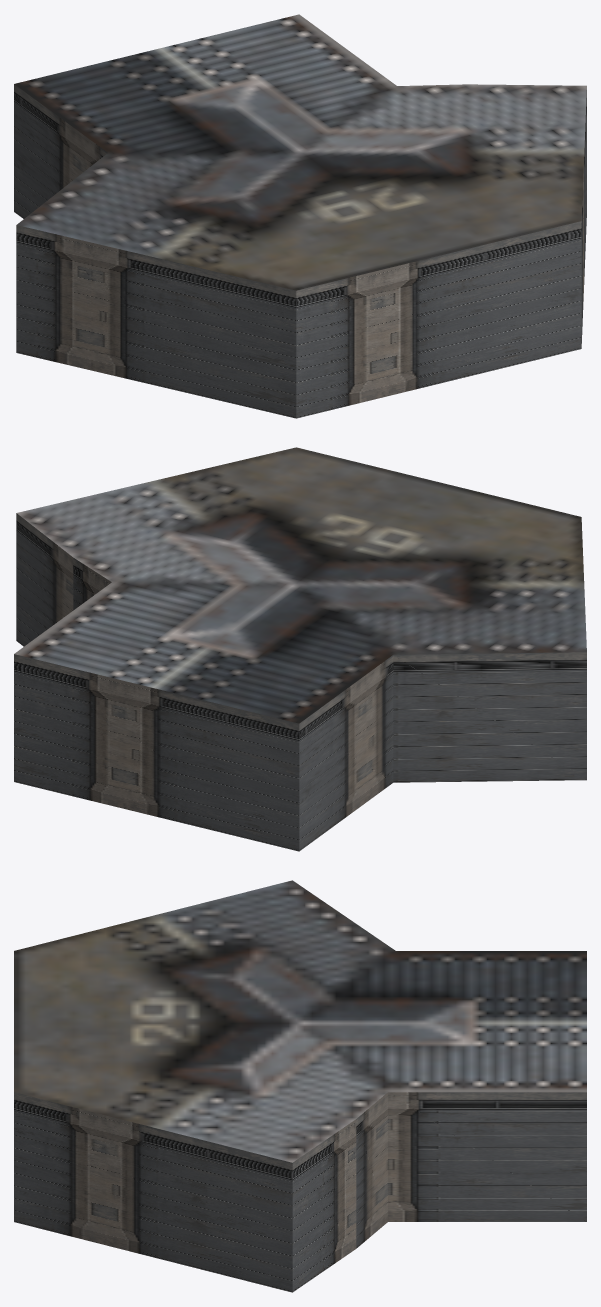
The model's file is hangar_hard_29.glb.
The picture shows the model from 3 angles, top to bottom: view 1: azimuth 30°, elevation 25°; view 2: azimuth 150°, elevation 25°; view 3: azimuth 270°, elevation 25°; orthographic projection.
Visible parts, largest first — view 1: buildings/saxarba/hangar_hard/hangar_hard_29; view 2: buildings/saxarba/hangar_hard/hangar_hard_29; view 3: buildings/saxarba/hangar_hard/hangar_hard_29.
Boxes of the visible parts, x1,y1,x2,y2 form: buildings/saxarba/hangar_hard/hangar_hard_29: [14, 14, 586, 418]; buildings/saxarba/hangar_hard/hangar_hard_29: [14, 447, 586, 851]; buildings/saxarba/hangar_hard/hangar_hard_29: [14, 880, 586, 1292].
Bounding box in the file's own units: 84 × 18 × 72.
